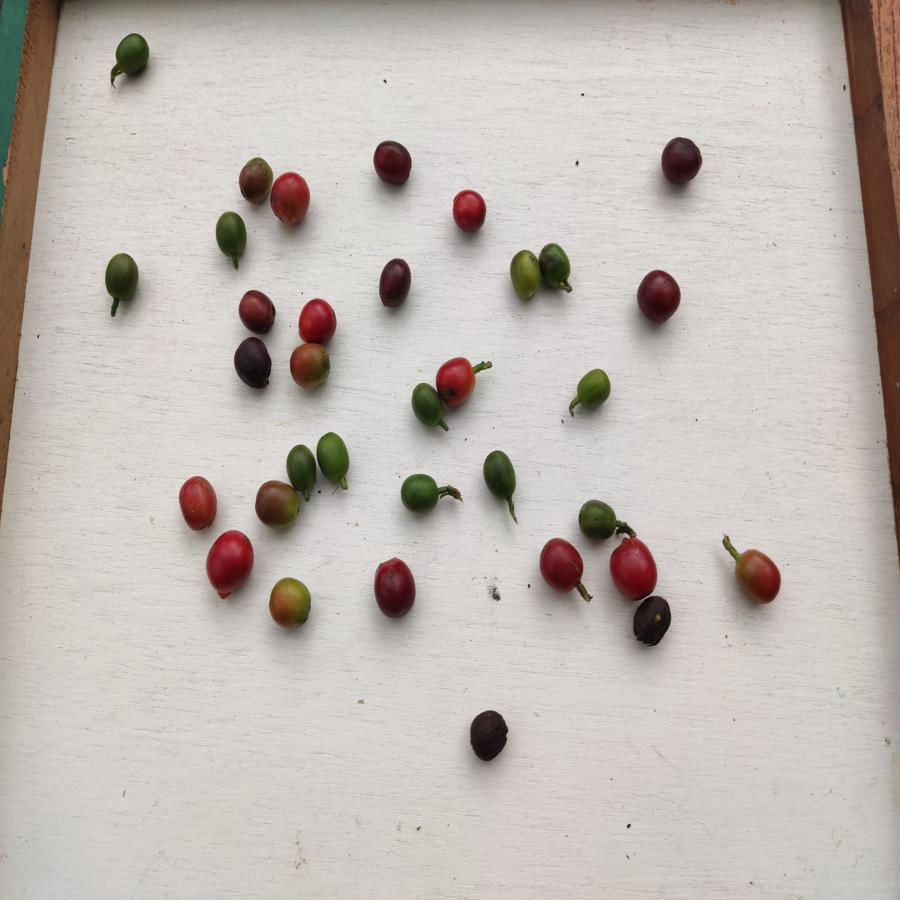Inmaduro: (399, 468, 461, 516), (102, 249, 145, 313), (569, 365, 616, 423), (571, 493, 621, 541), (111, 32, 157, 83), (316, 431, 358, 484), (210, 208, 248, 263), (508, 247, 542, 306), (482, 448, 519, 501), (284, 443, 317, 494), (541, 240, 575, 289), (407, 384, 444, 427)
Maduro: (721, 535, 784, 608), (537, 532, 590, 607), (205, 529, 256, 606), (435, 355, 496, 411), (610, 536, 659, 601), (174, 470, 219, 533), (270, 171, 314, 229), (448, 188, 491, 234), (296, 296, 338, 343)
Pinton: (251, 479, 303, 529), (269, 579, 317, 628), (288, 341, 333, 389), (237, 155, 273, 204)
Sobremaduro: (636, 261, 685, 326), (374, 554, 419, 624), (372, 136, 421, 192), (231, 336, 276, 393), (466, 707, 513, 761), (662, 132, 706, 189), (238, 287, 281, 335), (634, 596, 674, 647), (377, 259, 416, 310)
